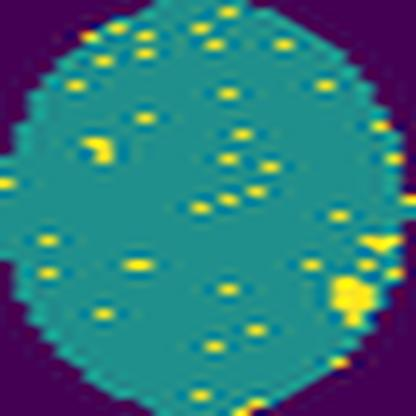Loc: (330, 273, 377, 326), (74, 129, 113, 167)
